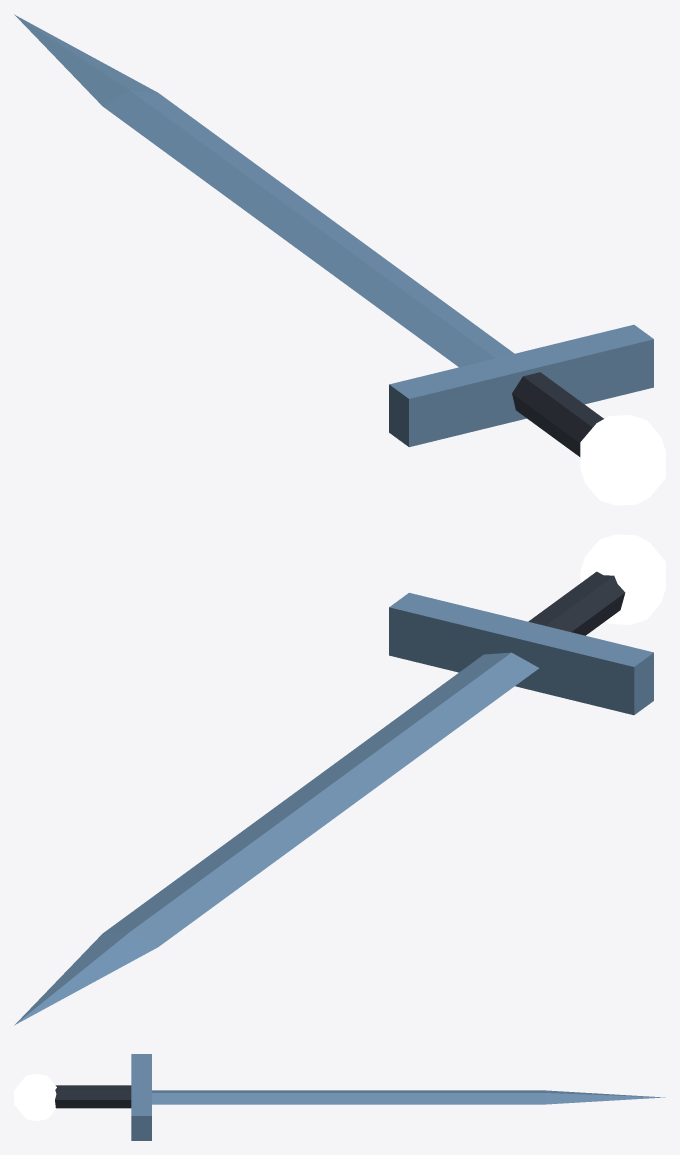
The model's file is Weapon_Sword_Titanium.fbx.
The picture shows the model from 3 angles, top to bottom: view 1: azimuth 30°, elevation 25°; view 2: azimuth 150°, elevation 25°; view 3: azimuth 270°, elevation 25°; orthographic projection. The views are drawn at different scales.
Visible parts, largest first — view 1: Weapon_Sword_Titanium; view 2: Weapon_Sword_Titanium; view 3: Weapon_Sword_Titanium.
Boxes of the visible parts, x1,y1,x2,y2 form: Weapon_Sword_Titanium: (14,14,665,505); Weapon_Sword_Titanium: (14,534,665,1025); Weapon_Sword_Titanium: (14,1054,665,1140).
Size of the model in its own units: 8.5 by 2.8 by 37.93.
